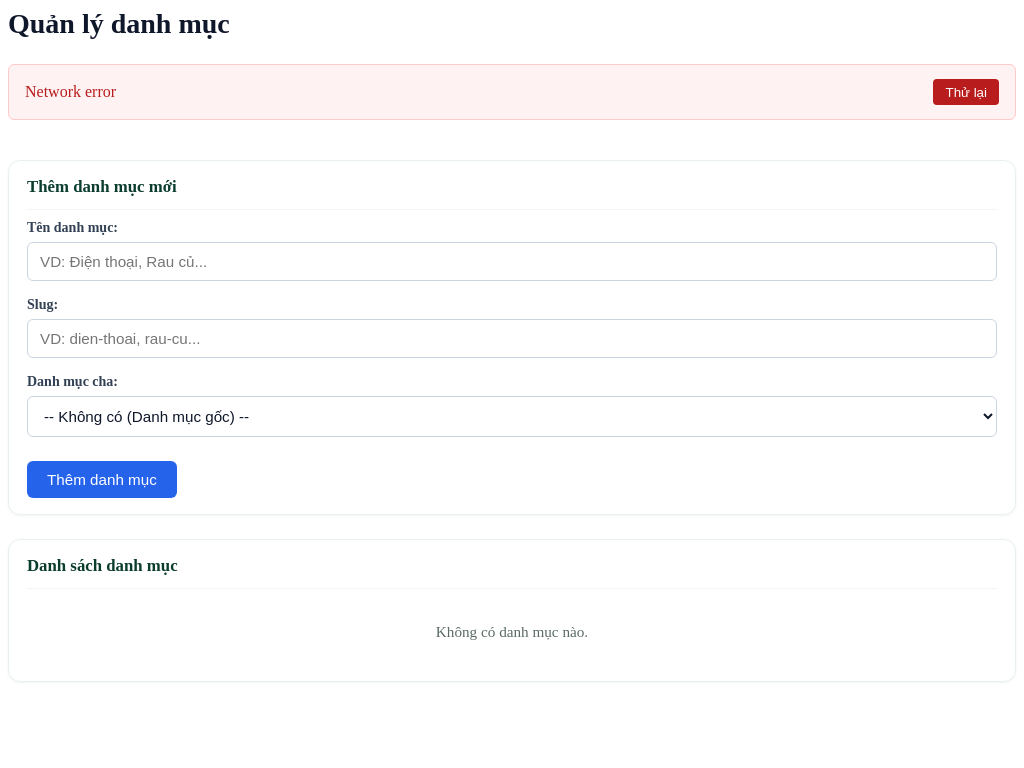
Test: displays retry button on load failure
Expected: the text "Network error" is shown, [25, 83, 116, 101]
Click the button "Thử lại": [966, 92] box [934, 79, 999, 105]
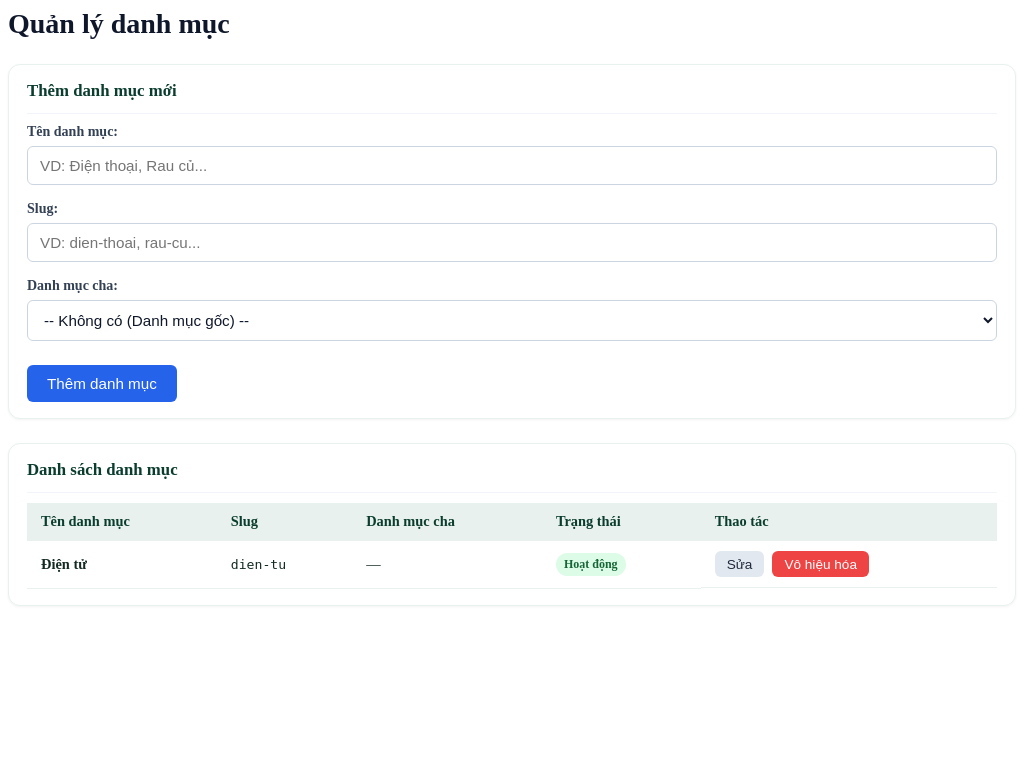
Now the cell "dien-tu" is shown, box [217, 540, 352, 588]
